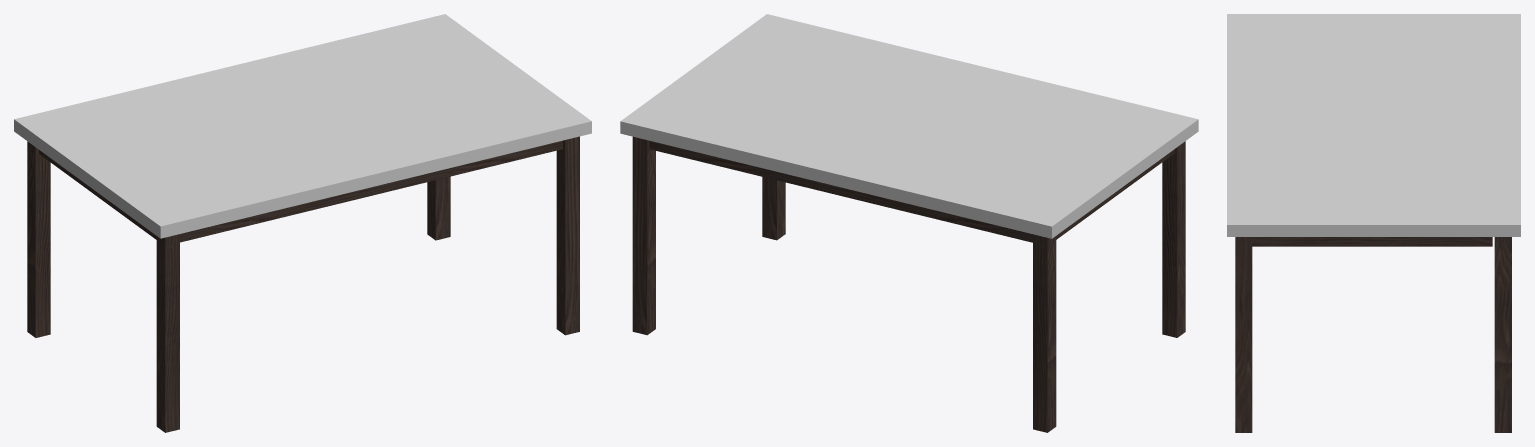
File: Table_12.glb
3 renders of one model, left to right at view 1: azimuth 30°, elevation 25°; view 2: azimuth 150°, elevation 25°; view 3: azimuth 270°, elevation 25°, orthographic.
Parts seen in each view (by area): view 1: Table_12; view 2: Table_12; view 3: Table_12.
Boxes of the visible parts, left/top/right/bottom form: Table_12: left=14, top=14, right=591, bottom=432; Table_12: left=620, top=14, right=1198, bottom=432; Table_12: left=1227, top=14, right=1520, bottom=432.
Size of the model in its own units: 1.82 by 0.8531 by 1.07.
Materials: 2 (1 with a texture image).
